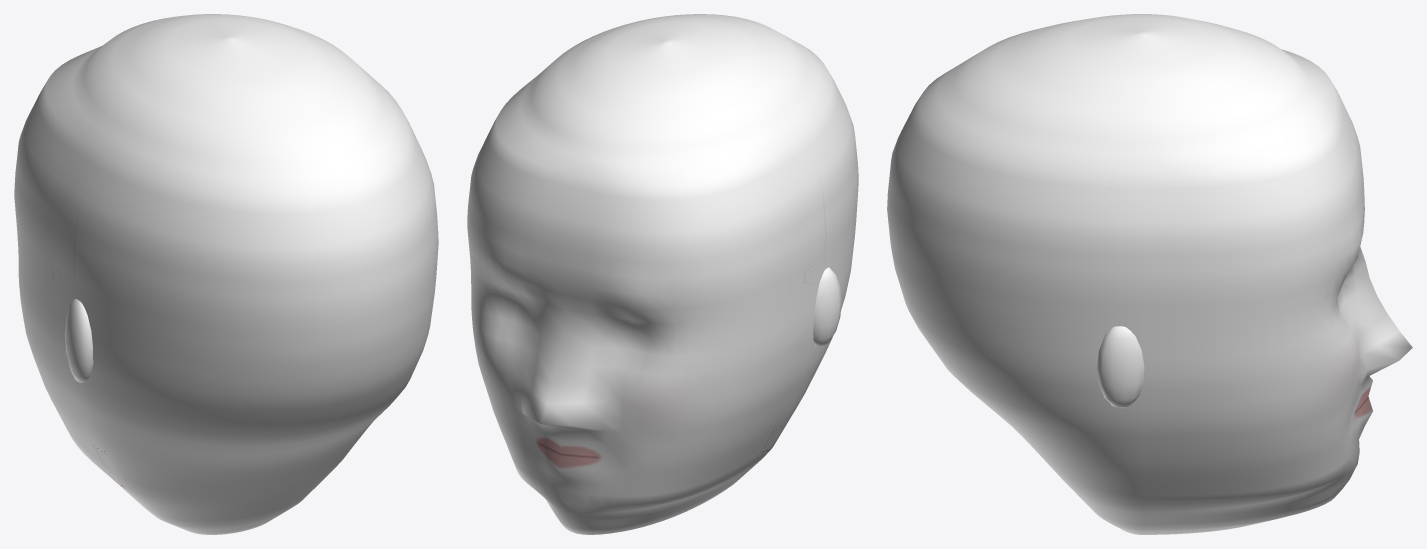
Rendered from gente.cabeza.fbx.
3 renders of one model, left to right at view 1: azimuth 30°, elevation 25°; view 2: azimuth 150°, elevation 25°; view 3: azimuth 270°, elevation 25°, orthographic. The views are drawn at different scales.
Parts seen in each view (by area): view 1: Cabeza; view 2: Cabeza; view 3: Cabeza.
Boxes of the visible parts, x1,y1,x2,y2 form: Cabeza: (14, 14, 438, 534); Cabeza: (467, 14, 858, 534); Cabeza: (887, 14, 1412, 534).
Size of the model in its own units: 0.197 by 0.2678 by 0.26.
1 material, 1 textured.
